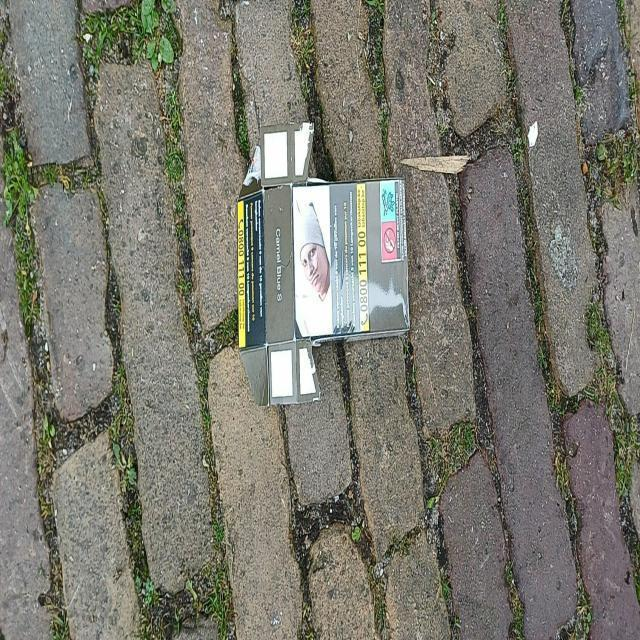Paper: (235, 119, 410, 410)
